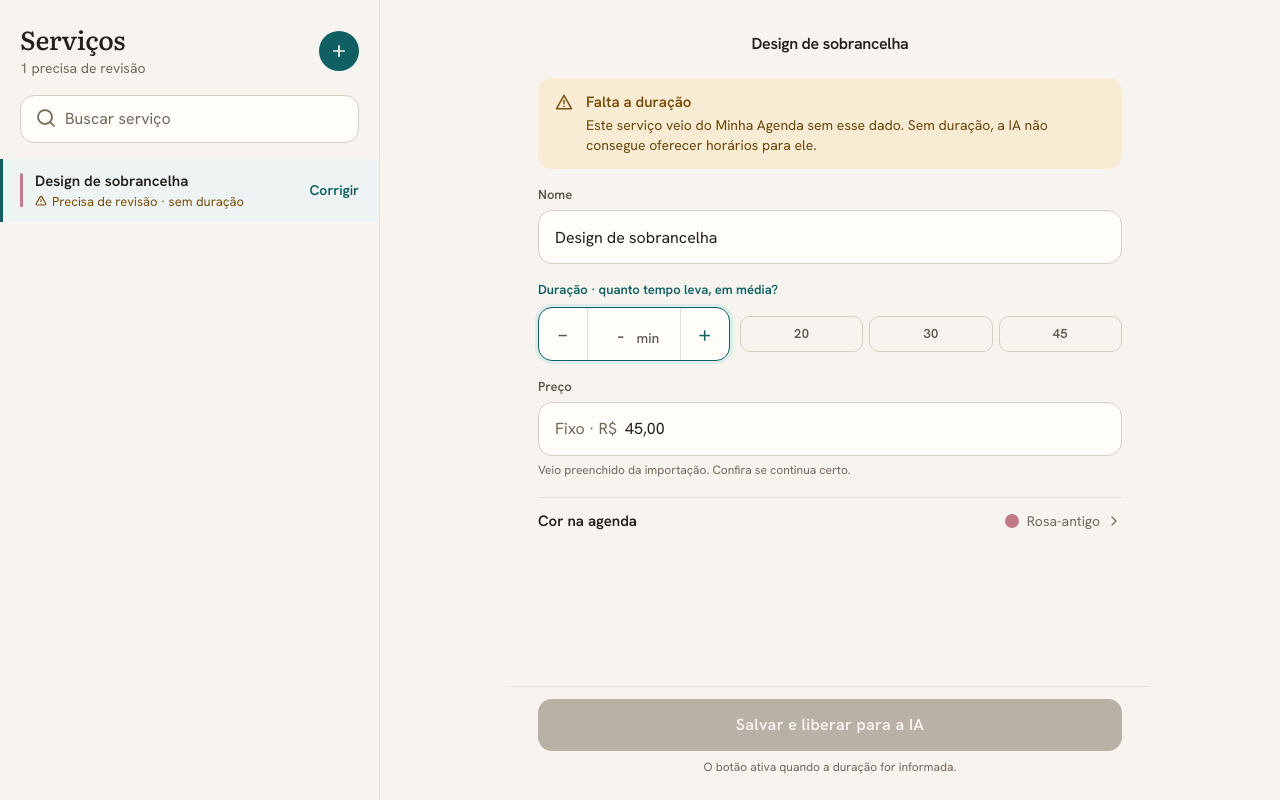
Test: S7 — botão e duração › botão desabilitado com duração vazia, ligado por atalho ou digitação
Expected: the button "Salvar e liberar para a IA" is disabled, [538,699,1122,751]
Expected: the button "20" is shown, [740,316,863,352]
Click the button "30" at (931, 334), box [869,316,993,352]
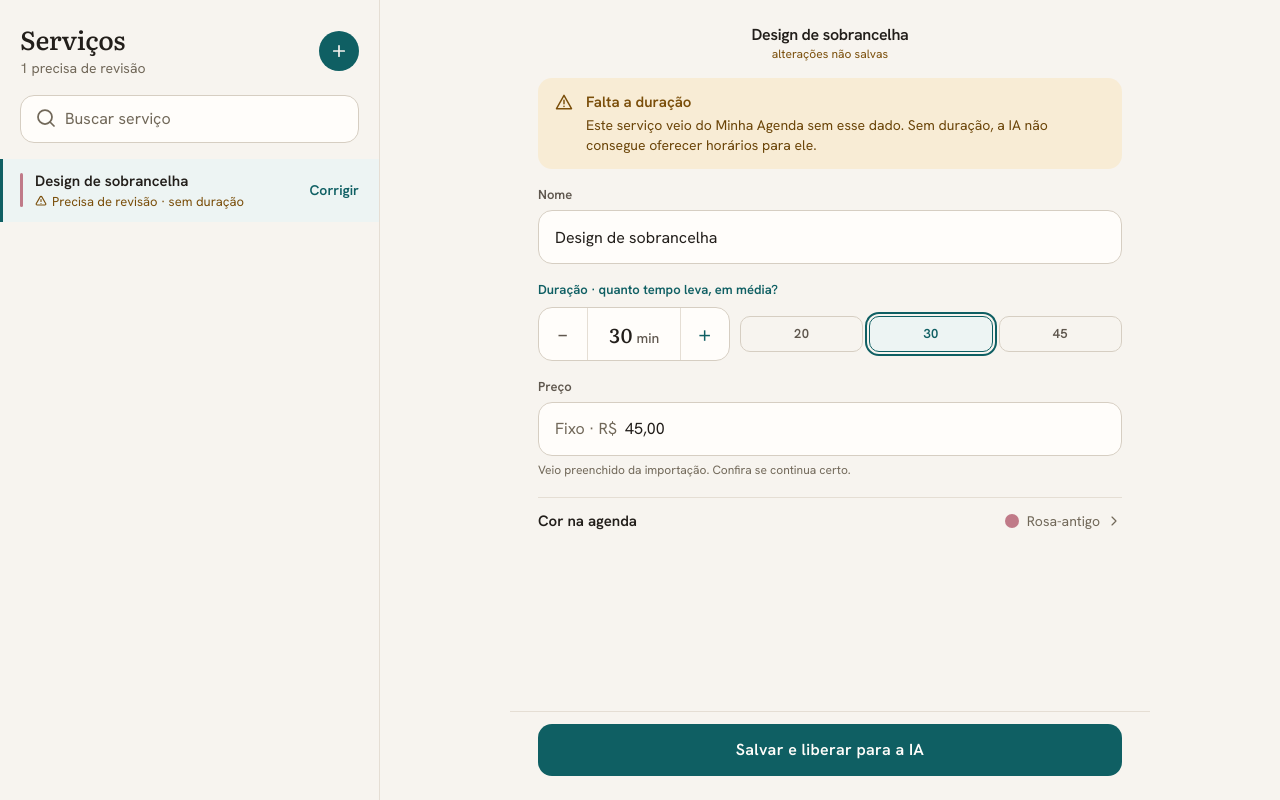
Result: the button "Salvar e liberar para a IA" is enabled at [538,724,1122,776]
Result: the text "O botão ativa quando a duração for informada." is gone
Clear the number field named "Duração (minutos)" at (621, 334), box [609,319,632,349]
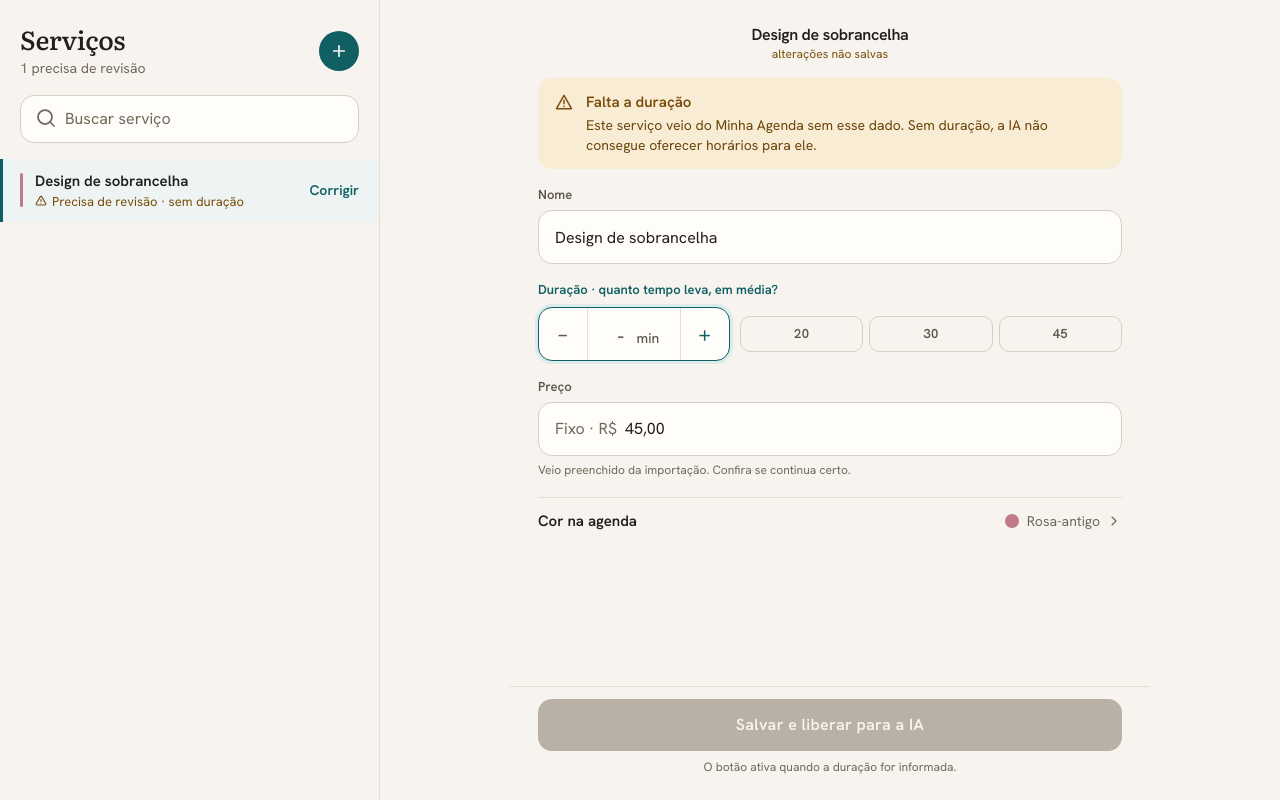
Result: the button "Salvar e liberar para a IA" is disabled at [538,699,1122,751]
Type "50" into the number field named "Duração (minutos)" at (621, 334), box [609,319,632,349]
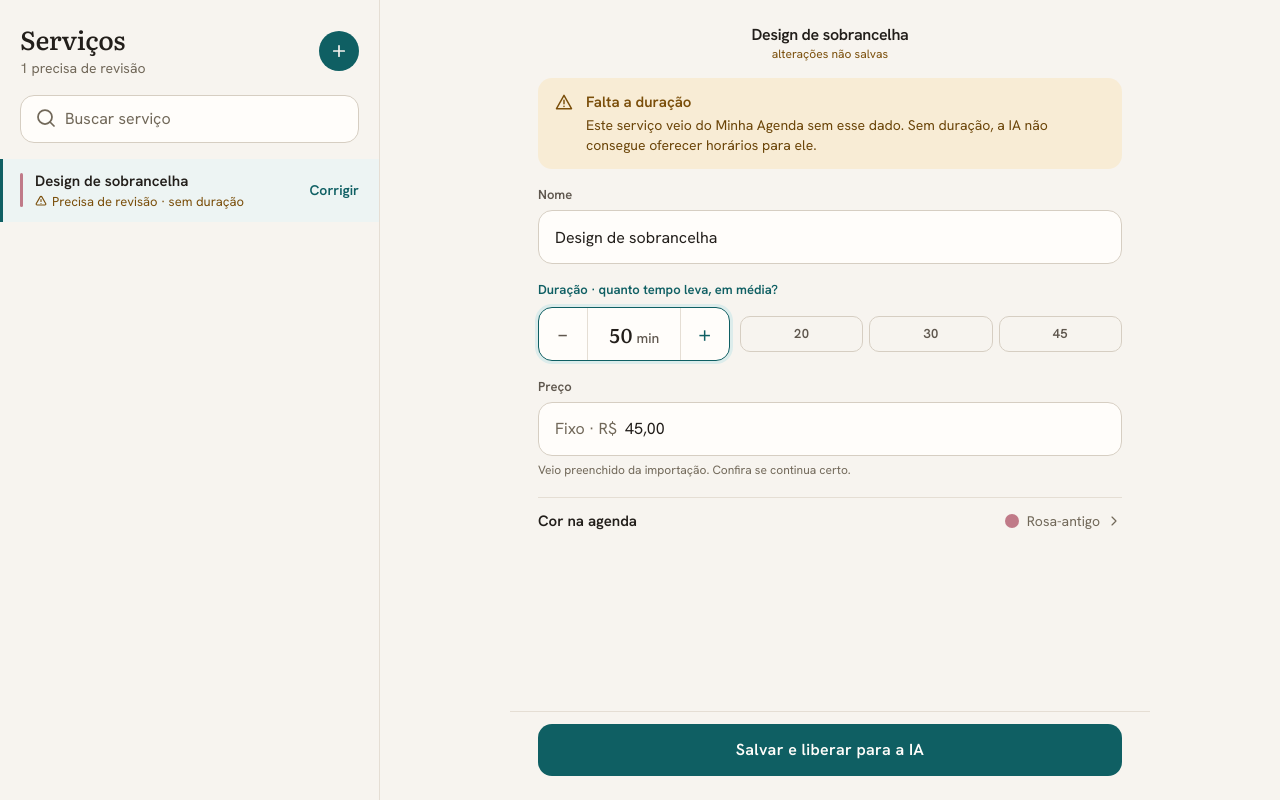
Result: the button "Salvar e liberar para a IA" is enabled at [538,724,1122,776]
Result: the text "O botão ativa quando a duração for informada." is gone
